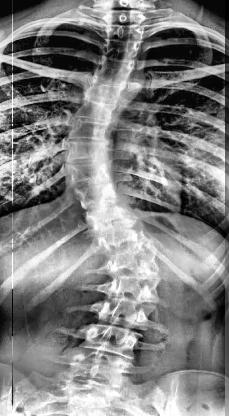Vertebrae: (79, 322, 143, 362), (66, 351, 132, 389), (88, 297, 158, 331), (96, 272, 161, 304), (82, 198, 140, 233), (95, 220, 153, 254), (98, 248, 161, 278), (72, 178, 122, 210), (64, 156, 112, 188), (72, 95, 126, 122), (80, 76, 130, 104), (66, 116, 124, 140), (90, 52, 136, 82), (64, 138, 114, 164), (99, 36, 143, 58)
